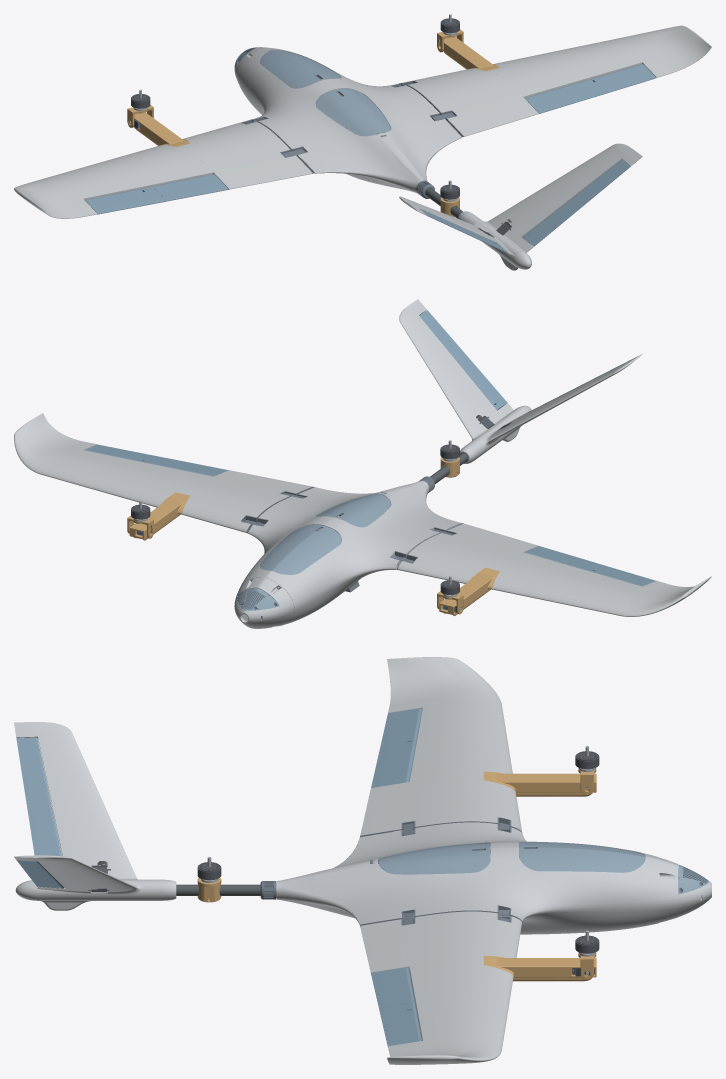
File: stallion_v2_pod_nobox.glb
The picture shows the model from 3 angles, top to bottom: view 1: azimuth 30°, elevation 25°; view 2: azimuth 150°, elevation 25°; view 3: azimuth 270°, elevation 25°; orthographic projection. The views are drawn at different scales.
Parts seen in each view (by area): view 1: WING 1L VTOL, WING 1R VTOL, FUS 4L, WING 2L VTOL, WING 2R VTOL, WING 3 L NO LED, FUS 5L, WING 3 R NO LED, WINGTIP R NO LED, FUS 4R, V TAIL 1 R, WINGTIP L NO LED (+20 smaller); view 2: WING 1L VTOL, WING 1R VTOL, WING 2L VTOL, WING 3 L NO LED, WING 2R VTOL, FUS 2L, WING 3 R NO LED, FUS 1L, WINGTIP R NO LED, V TAIL 1 R, NOSE, FUS 4L (+23 smaller); view 3: WING 1R VTOL, WING 1L VTOL, FUS 2R, FUS 1R, V TAIL 1 L, WINGTIP L NO LED, WING 2R VTOL, FUS 4R, WING 3 R NO LED, WING 2L VTOL, WING 3 L NO LED, FUS 5R (+23 smaller).
Part boxes in pixels (<box>): WING 1L VTOL: <box>183,120,312,189</box>; WING 1R VTOL: <box>401,68,538,136</box>; FUS 4L: <box>276,115,385,182</box>; WING 2L VTOL: <box>108,144,213,188</box>; WING 2R VTOL: <box>493,52,587,98</box>; WING 3 L NO LED: <box>43,160,142,216</box>; FUS 5L: <box>311,138,422,193</box>; WING 3 R NO LED: <box>553,37,666,79</box>; WINGTIP R NO LED: <box>623,25,711,74</box>; FUS 4R: <box>374,97,458,142</box>; V TAIL 1 R: <box>494,179,576,237</box>; WINGTIP L NO LED: <box>14,179,86,218</box>; WING 1L VTOL: <box>398,523,538,583</box>; WING 1R VTOL: <box>182,470,312,532</box>; WING 2L VTOL: <box>492,552,586,601</box>; WING 3 L NO LED: <box>550,571,665,615</box>; WING 2R VTOL: <box>105,462,212,507</box>; FUS 2L: <box>319,521,400,605</box>; WING 3 R NO LED: <box>41,442,142,492</box>; FUS 1L: <box>266,559,334,626</box>; WINGTIP R NO LED: <box>14,413,86,474</box>; V TAIL 1 R: <box>432,358,496,431</box>; NOSE: <box>234,577,294,628</box>; FUS 4L: <box>374,492,459,540</box>; WING 1R VTOL: <box>360,911,521,972</box>; WING 1L VTOL: <box>360,775,521,835</box>; FUS 2R: <box>506,847,584,934</box>; FUS 1R: <box>585,857,658,932</box>; V TAIL 1 L: <box>50,796,133,870</box>; WINGTIP L NO LED: <box>387,657,501,706</box>; WING 2R VTOL: <box>409,960,513,1011</box>; FUS 4R: <box>367,861,453,923</box>; WING 3 R NO LED: <box>388,1001,508,1052</box>; WING 2L VTOL: <box>409,736,512,781</box>; WING 3 L NO LED: <box>388,697,508,744</box>; FUS 5R: <box>276,863,366,925</box>.
Bounding box in the file's own units: 1.34 × 0.229 × 0.9914.
